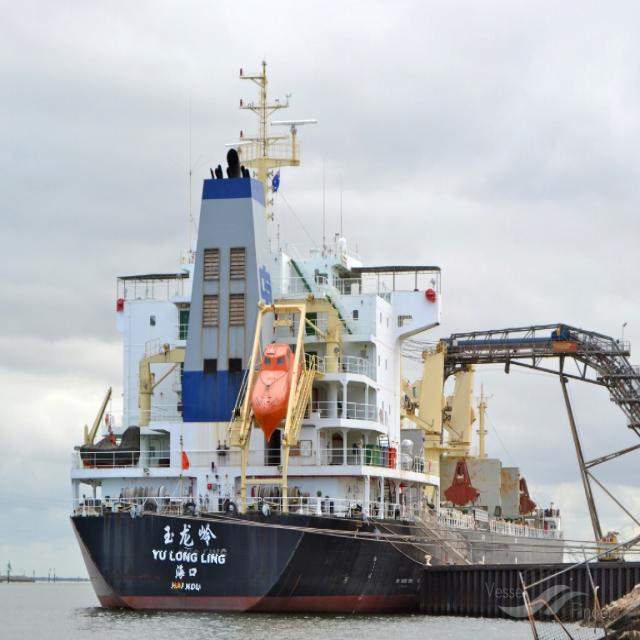OCR: (150, 545, 230, 593)
